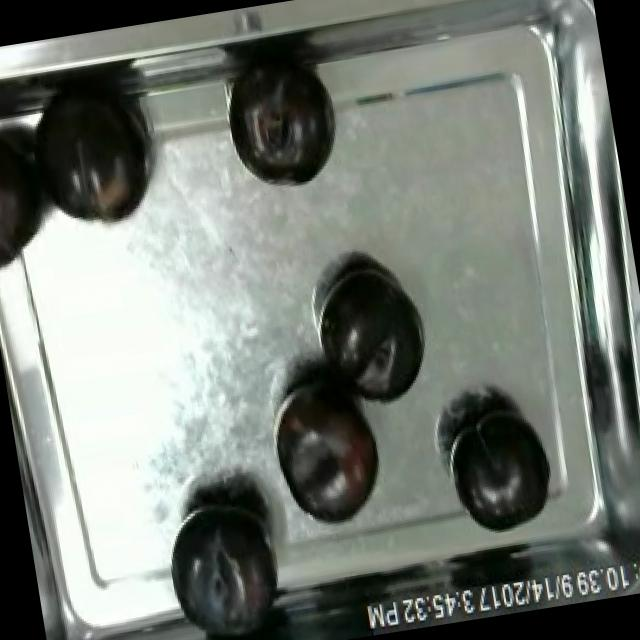Fruit: (15, 74, 167, 244), (256, 360, 398, 540), (150, 481, 298, 640), (308, 251, 442, 419), (438, 393, 566, 544), (224, 56, 344, 196), (0, 119, 56, 277)
